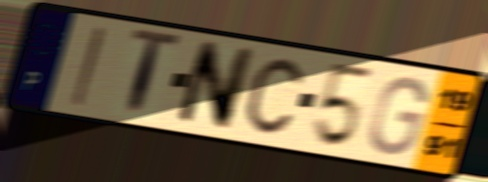5: (308, 61, 379, 150)
C: (243, 55, 306, 137)
G: (366, 73, 431, 158)
I: (68, 23, 108, 110)
N: (172, 38, 258, 133)
T: (126, 26, 184, 123)
